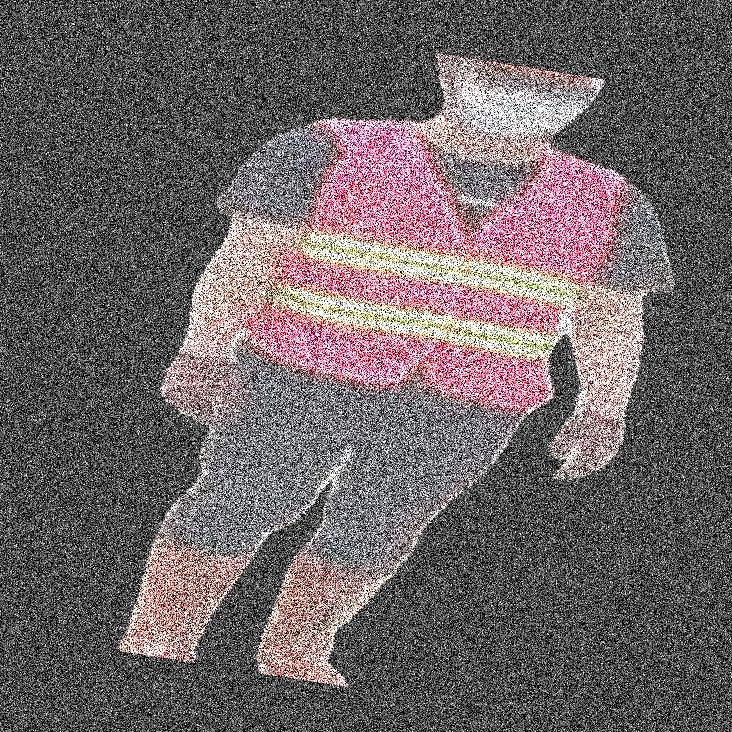Pessoa: (273, 0, 468, 731)
